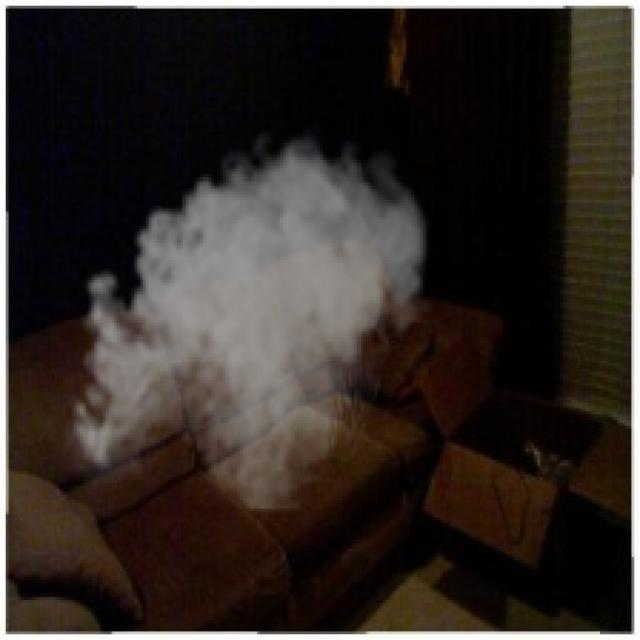smoke: (60, 123, 437, 514)
